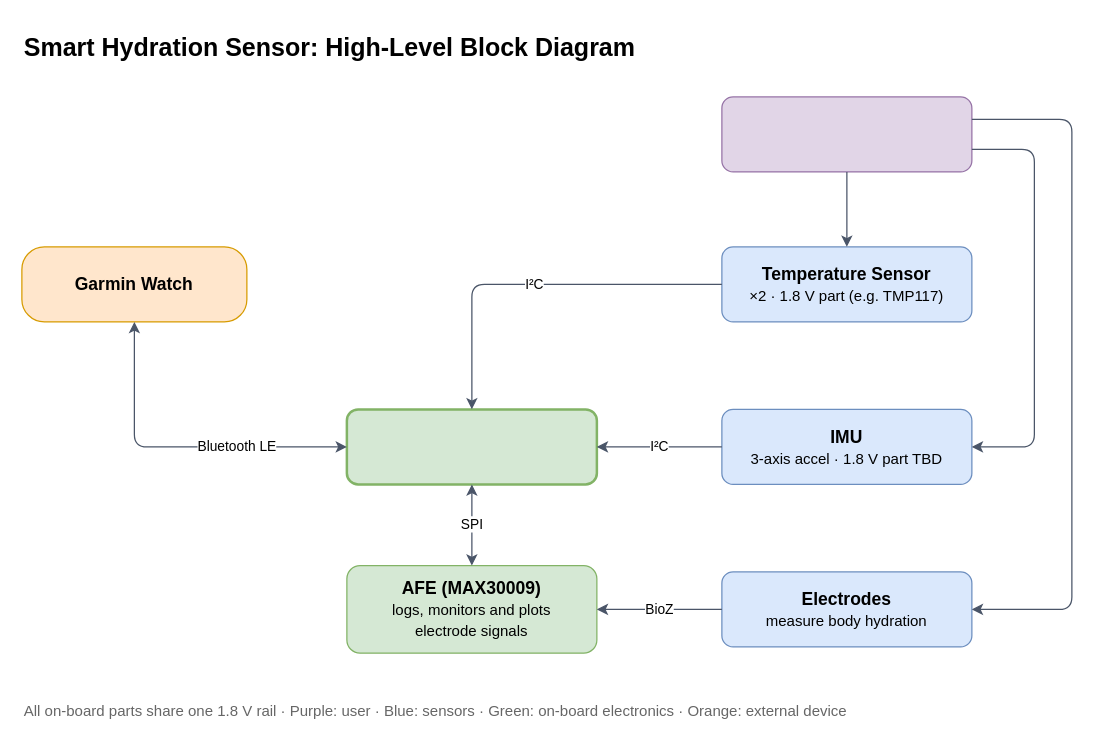
Image size: 1104x748. Some labels were removed from this diagram. Each missing label, with the box of its shape:
Body upper arm: (721, 96, 972, 172)
nRF52840 main processor + Bluetooth: (345, 408, 598, 485)
